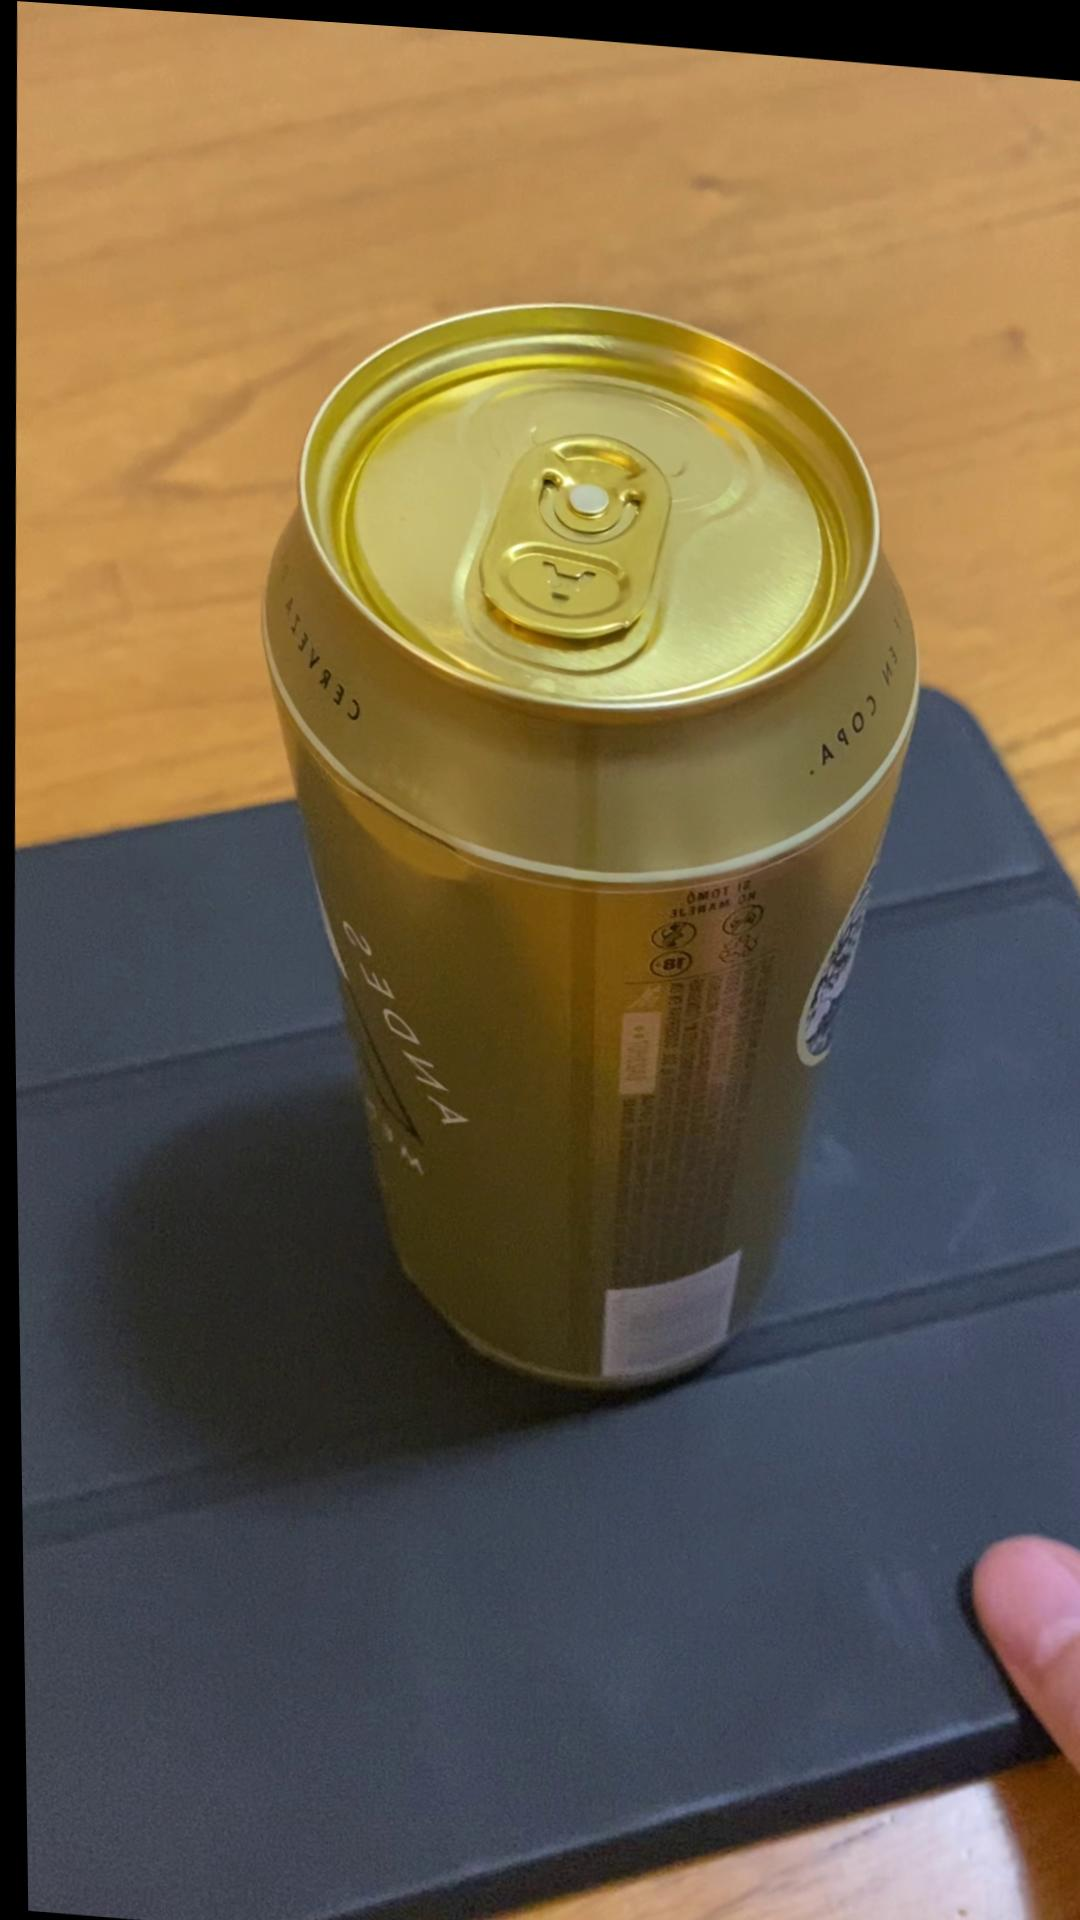metal: (260, 306, 916, 1390)
